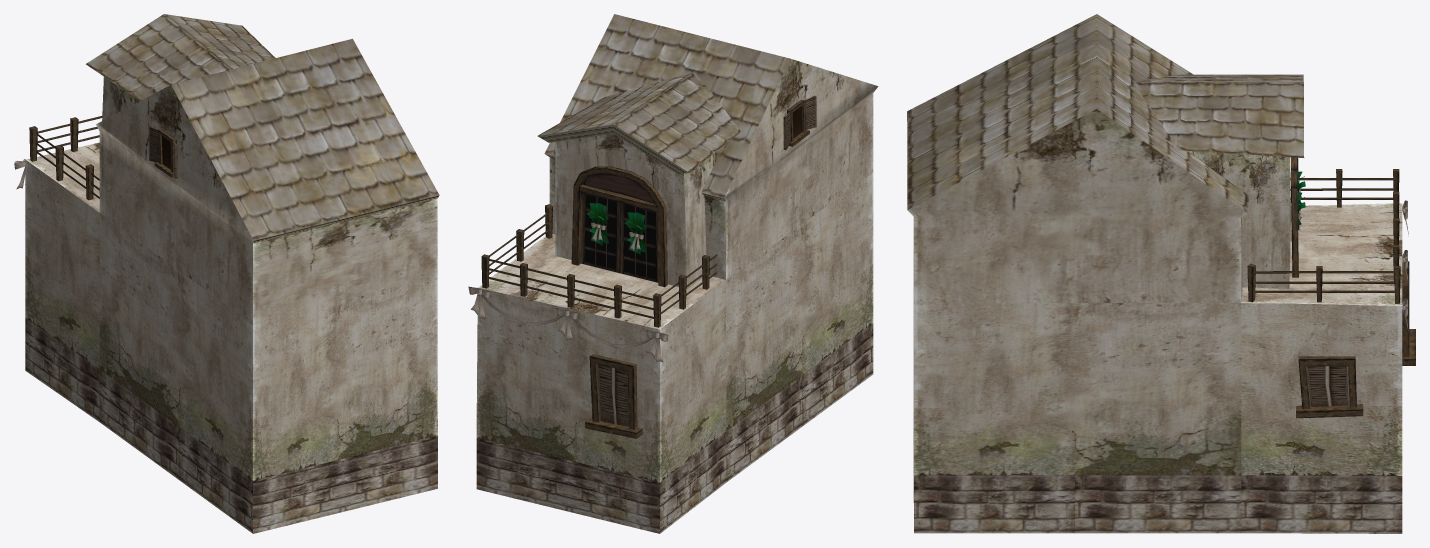
File: english_h.fbx
3 renders of one model, left to right at view 1: azimuth 30°, elevation 25°; view 2: azimuth 150°, elevation 25°; view 3: azimuth 270°, elevation 25°, orthographic. The views are drawn at different scales.
Visible parts, largest first — view 1: building_shell, balcony_shell; view 2: building_shell, balcony_shell, doors_arched, window1, window2, shutters; view 3: building_shell, balcony_shell, window3, window4, window1, doors_arched.
Boxes of the visible parts, x1,y1,x2,y2 form: building_shell: (25,38,439,533); balcony_shell: (86,14,275,192); building_shell: (476,14,878,533); balcony_shell: (537,72,741,288); doors_arched: (571,166,667,287); window1: (585,354,642,438); window2: (597,364,628,426); shutters: (783,95,816,150); building_shell: (907,14,1402,533); balcony_shell: (1133,74,1304,288); window3: (1296,356,1363,418); window4: (1306,366,1349,406); window1: (1402,261,1415,365); doors_arched: (1291,157,1299,277).
Bounding box in the file's own units: 2061 × 3662 × 3983.
Materials: 2 (2 with a texture image).
